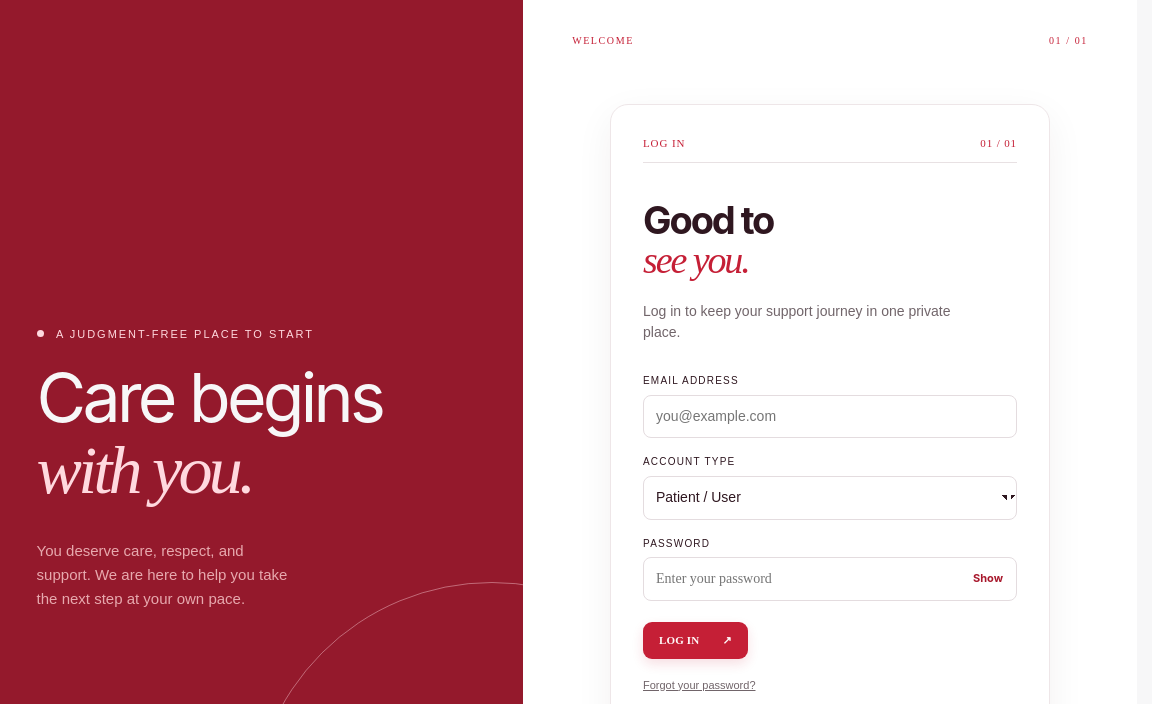
Test: health workers have one supervised group and cannot create or remove groups
Select "Health Worker" in the dropdown labelled "Account type". click: (830, 498)
box: [643,476,1017,520]
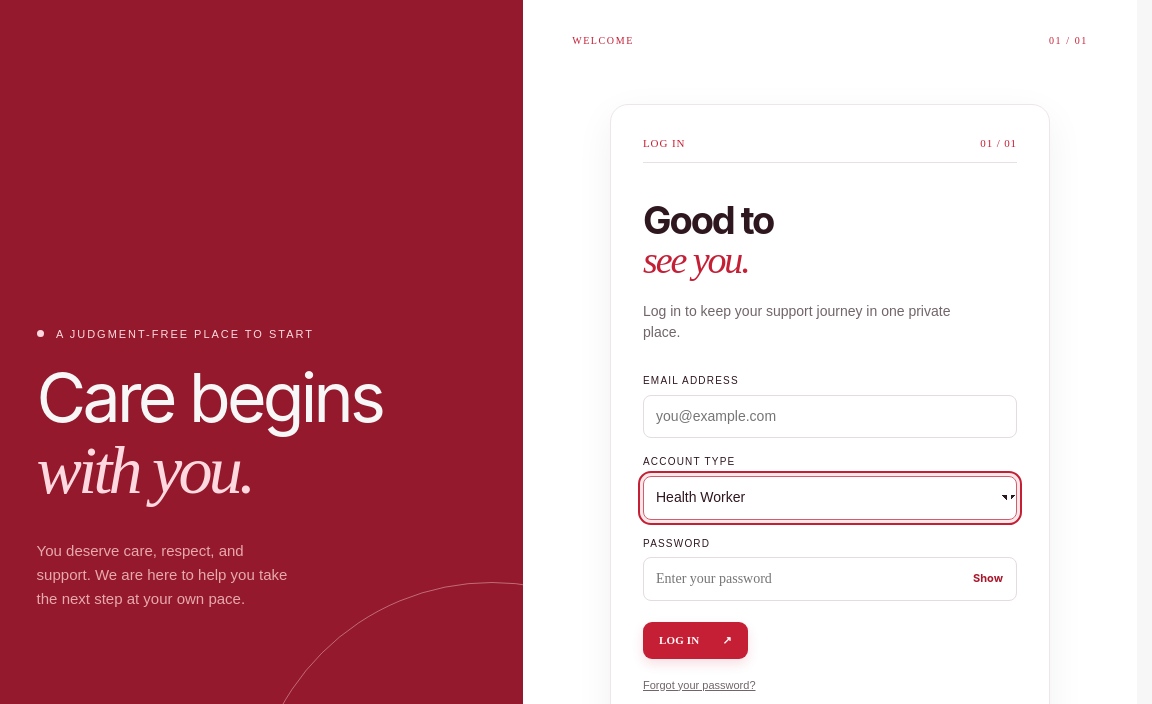
Type "evelyn@risinghiv.org" into the field labelled "Email Address". click: (830, 417)
box: [643,395,1017,438]
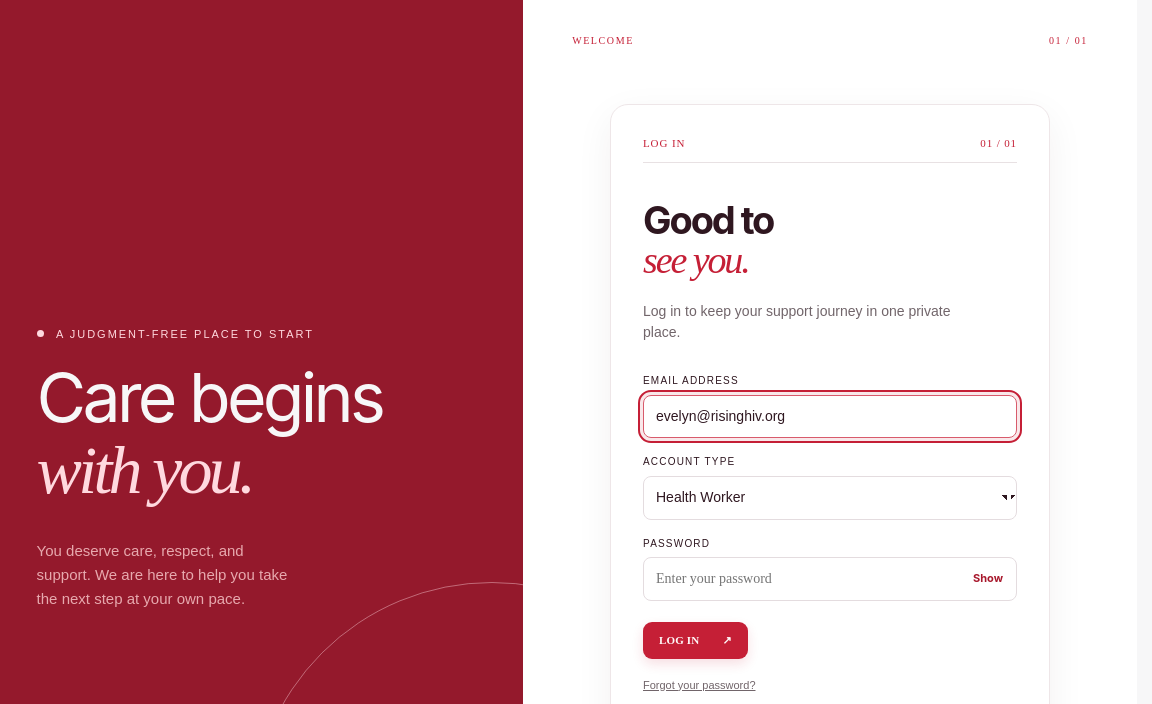
Type "password" into the password field labelled "Password". click: (830, 579)
box: [643,557,1017,601]
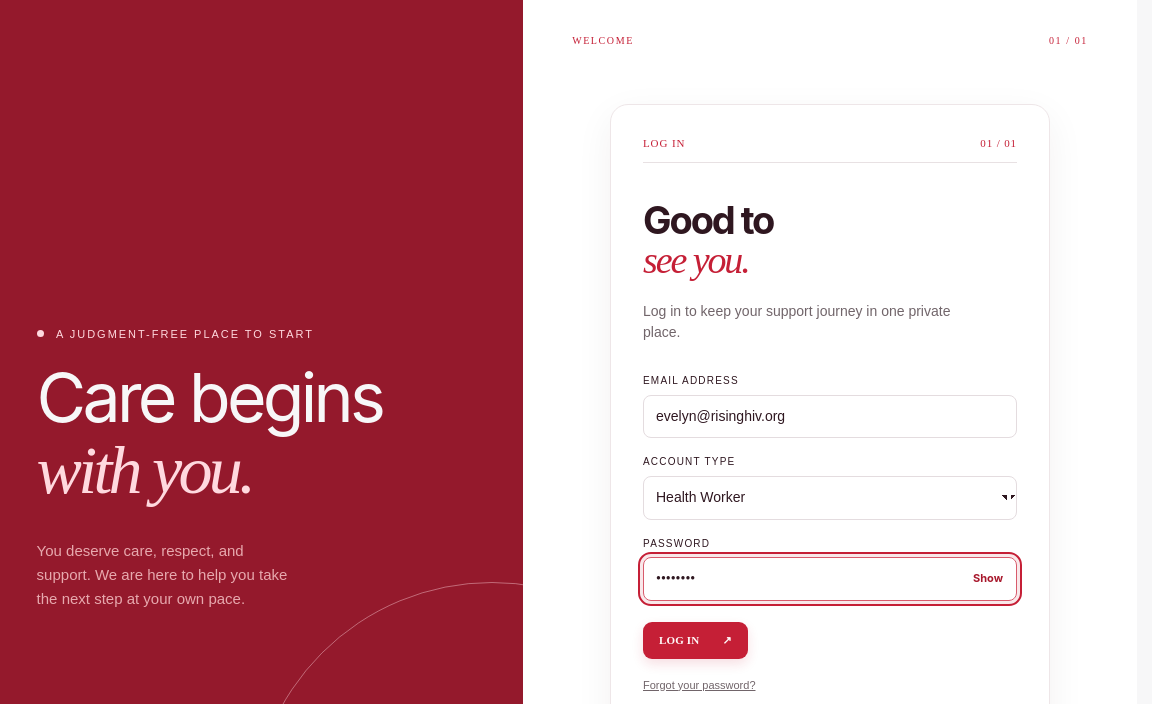
Click the button "Log in ↗". click: (695, 640)
box: [643,622,748,659]
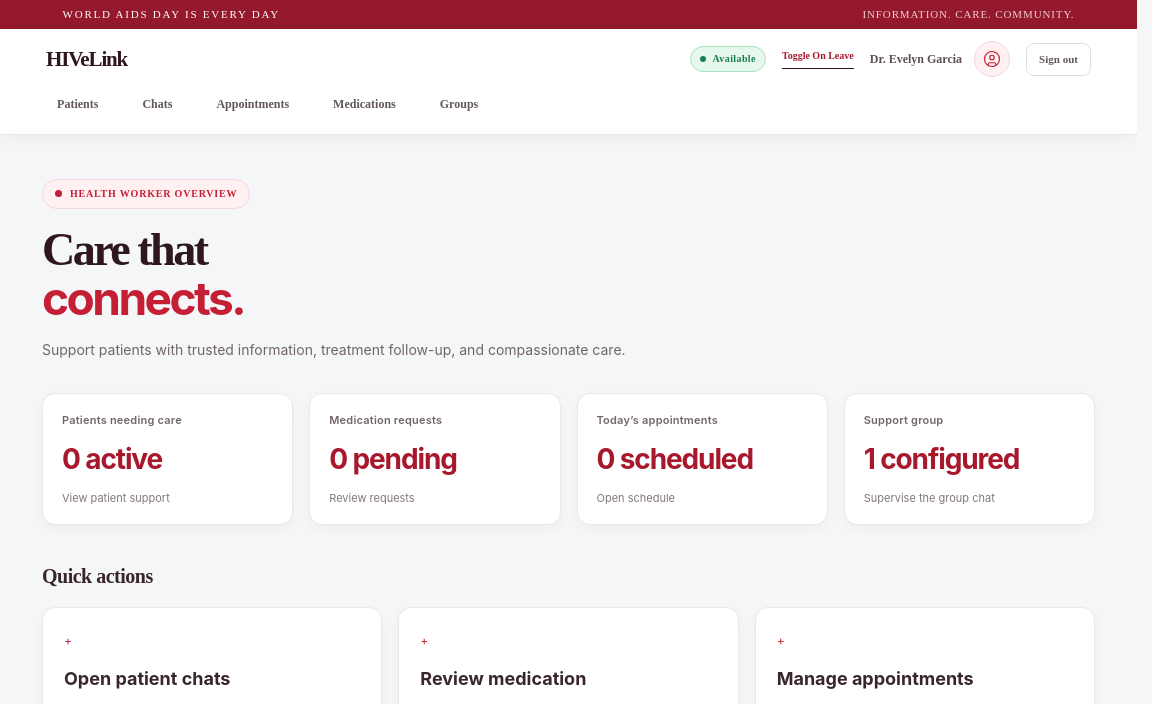
Click the button "Groups". click: (459, 104)
box: [429,87,489,122]
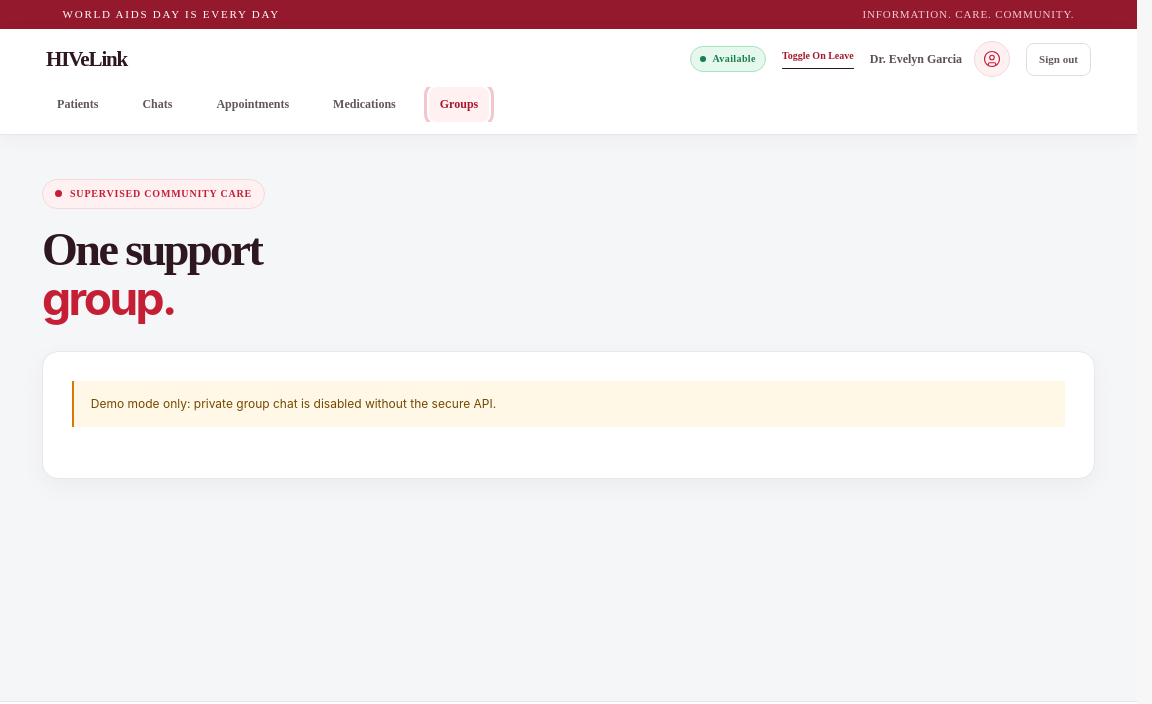
Expected: the heading named "one support group" is shown, [42,224,261,326]
Now the text "Demo mode only: private group chat is disabled without the secure API." is shown, box [72,381,1065,428]
